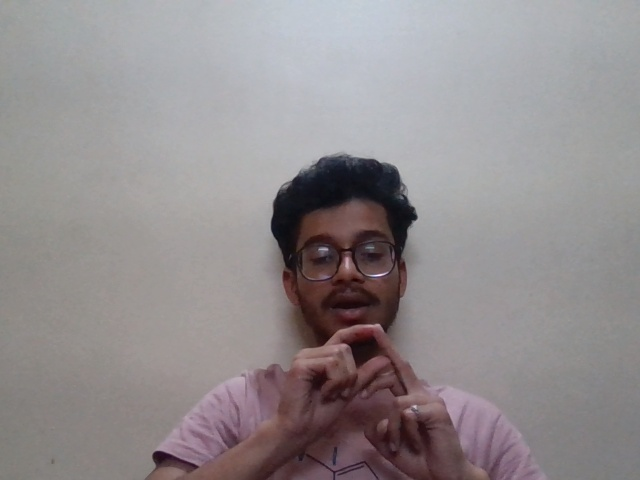R: (273, 317, 476, 466)
